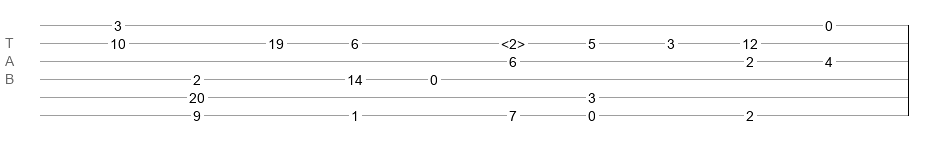0: (430, 72, 438, 82), (588, 108, 596, 118), (825, 18, 833, 28)
1: (351, 108, 359, 118)
10: (110, 36, 126, 46)
12: (742, 36, 758, 46)
14: (347, 72, 363, 82)
19: (268, 36, 284, 46)
2: (193, 72, 201, 82), (746, 108, 754, 118), (746, 54, 754, 64)
20: (189, 90, 205, 100)
3: (114, 18, 122, 28), (588, 90, 596, 100), (667, 36, 675, 46)
4: (825, 54, 833, 64)
5: (588, 36, 596, 46)
6: (351, 36, 359, 46), (509, 54, 517, 64)
7: (509, 108, 517, 118)
9: (193, 108, 201, 118)
harmonic: (501, 36, 525, 46)
